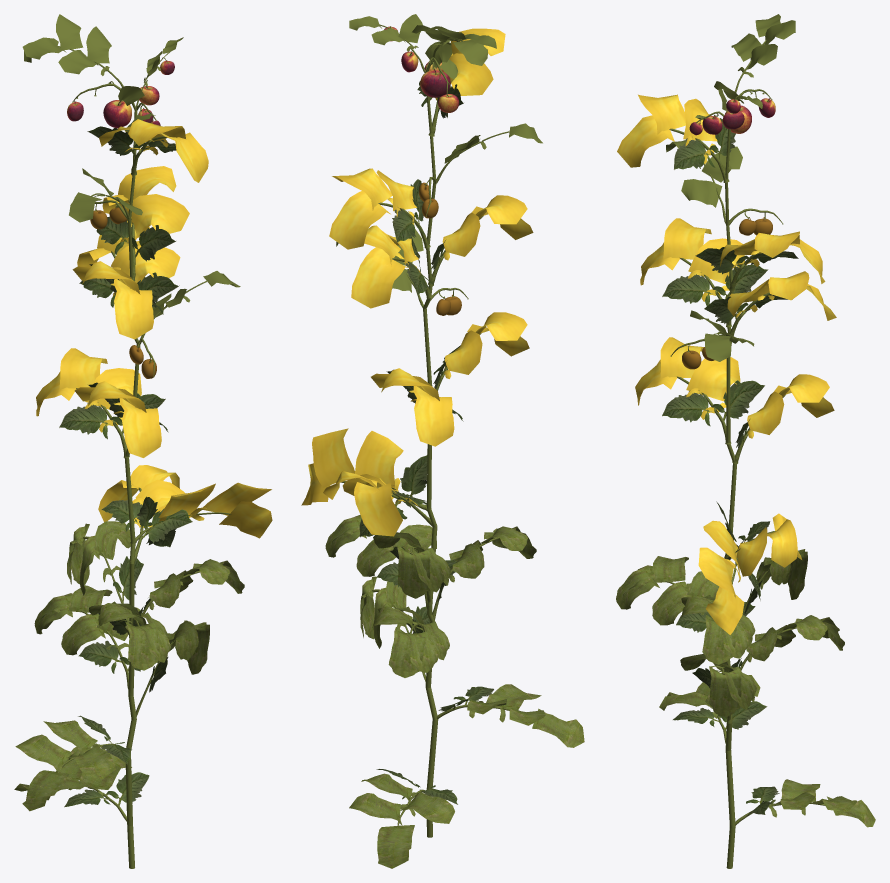
The model's file is apple_tree.dae.
3 views of the same model, side by side, from view 1: azimuth 30°, elevation 25°; view 2: azimuth 150°, elevation 25°; view 3: azimuth 270°, elevation 25° (orthographic).
Visible parts, largest first — view 1: Blossom2, Branch1, Blossom1, Leaf1, Apple3; view 2: Blossom2, Branch1, Blossom1, Leaf1, Apple3; view 3: Blossom2, Branch1, Blossom1, Leaf1.
Part boxes in pixels (x1,y1,x2,y2): Blossom2: (36,119,272,538); Branch1: (14,14,240,868); Blossom1: (34,521,244,674); Leaf1: (59,126,192,807); Apple3: (103,100,131,128); Blossom2: (301,28,533,536); Branch1: (336,14,584,868); Blossom1: (325,510,536,677); Leaf1: (359,81,493,804); Apple3: (420,69,450,97); Blossom2: (617,94,836,634); Branch1: (652,14,875,868); Blossom1: (616,549,844,717); Leaf1: (662,118,798,815).
Bounding box in the file's own units: 0.8589 × 0.7676 × 2.67.
7 materials, 6 textured.
